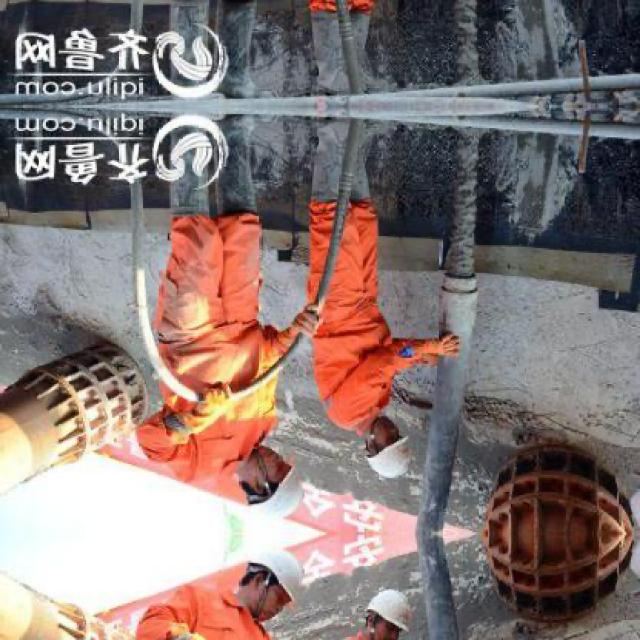con casco: (230, 532, 334, 622), (207, 444, 307, 518), (355, 576, 445, 630), (349, 424, 426, 487)
